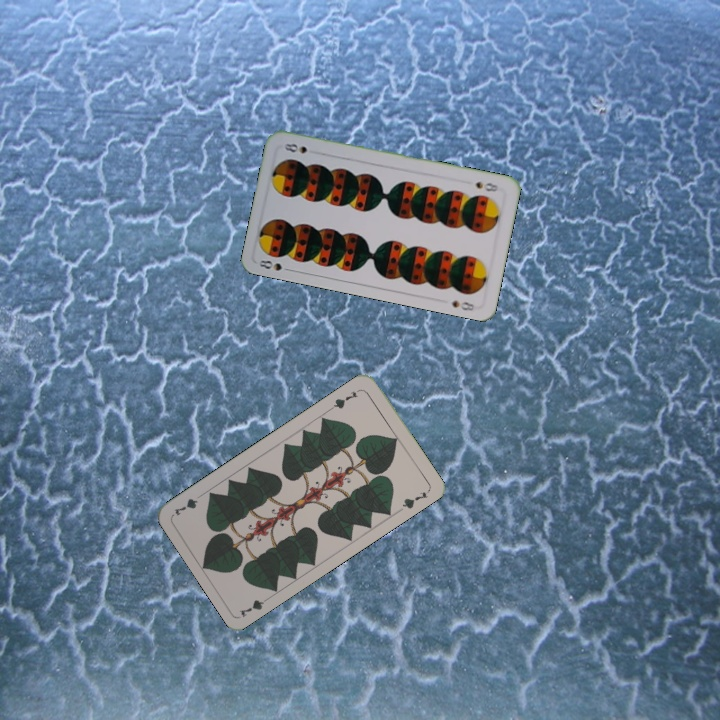G7: (235, 592, 274, 620), (327, 387, 361, 412)
S8: (255, 256, 295, 274), (472, 177, 501, 194)
